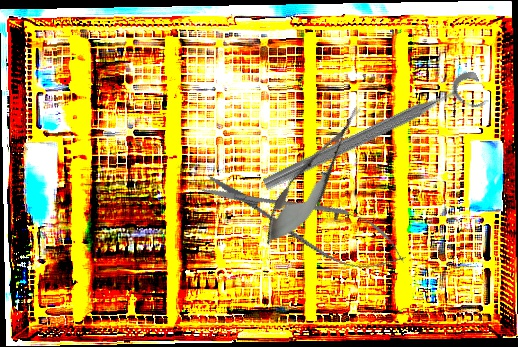Fixation Ring: (259, 67, 491, 210)
Micro Scissor: (192, 155, 415, 287), (251, 96, 376, 256)
